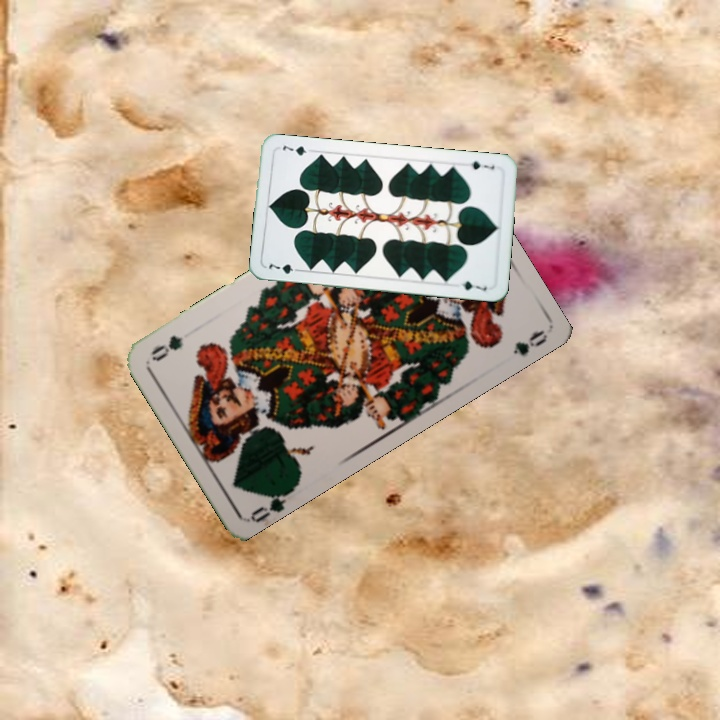G7: (265, 260, 304, 276), (467, 157, 497, 172)
GO: (246, 482, 298, 524)
